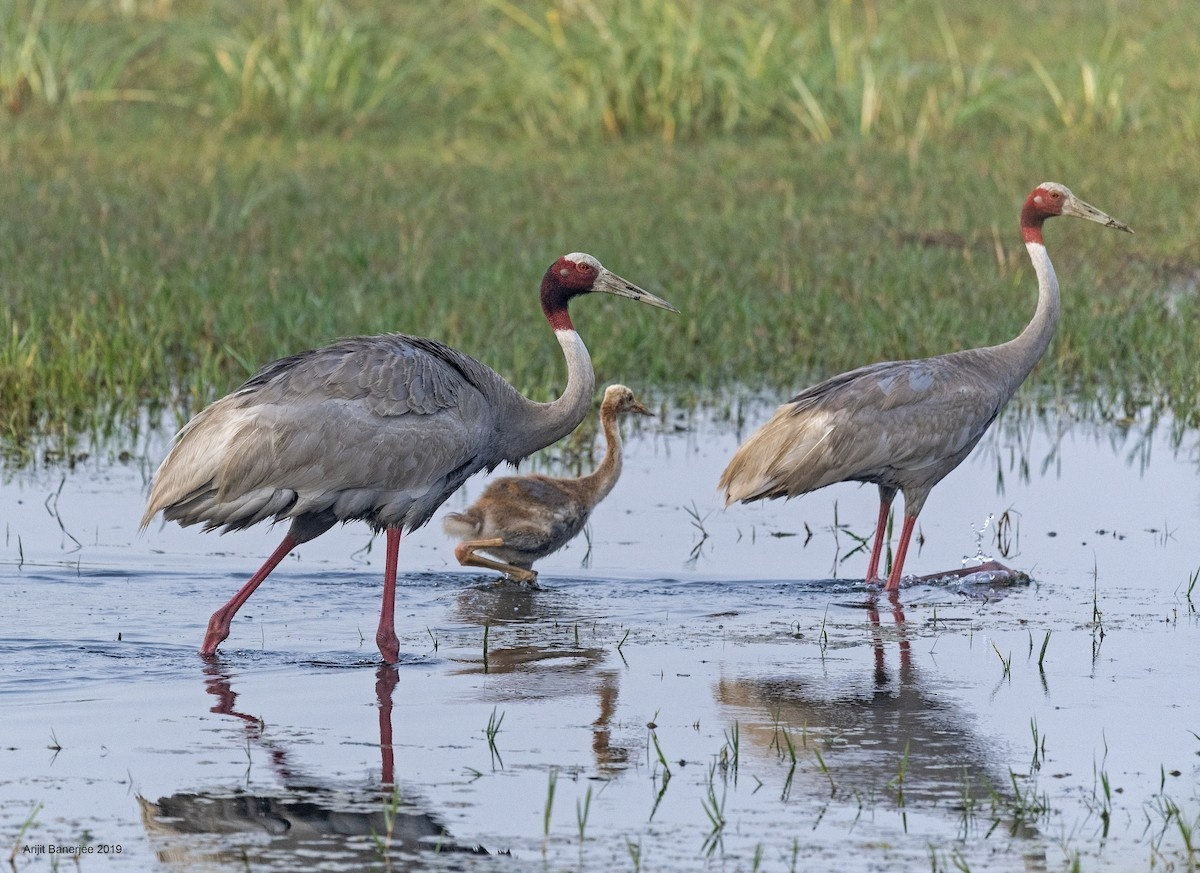crane: (155, 244, 680, 656), (706, 162, 1138, 597), (460, 389, 661, 597)
